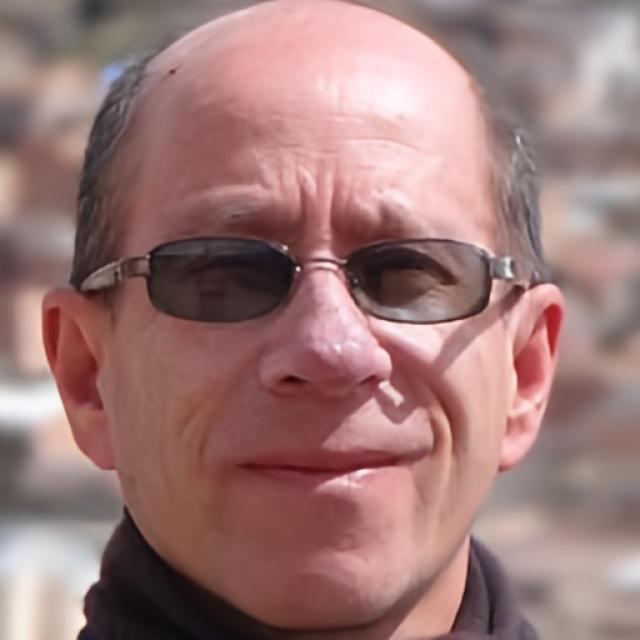disgust: (114, 72, 516, 627)
